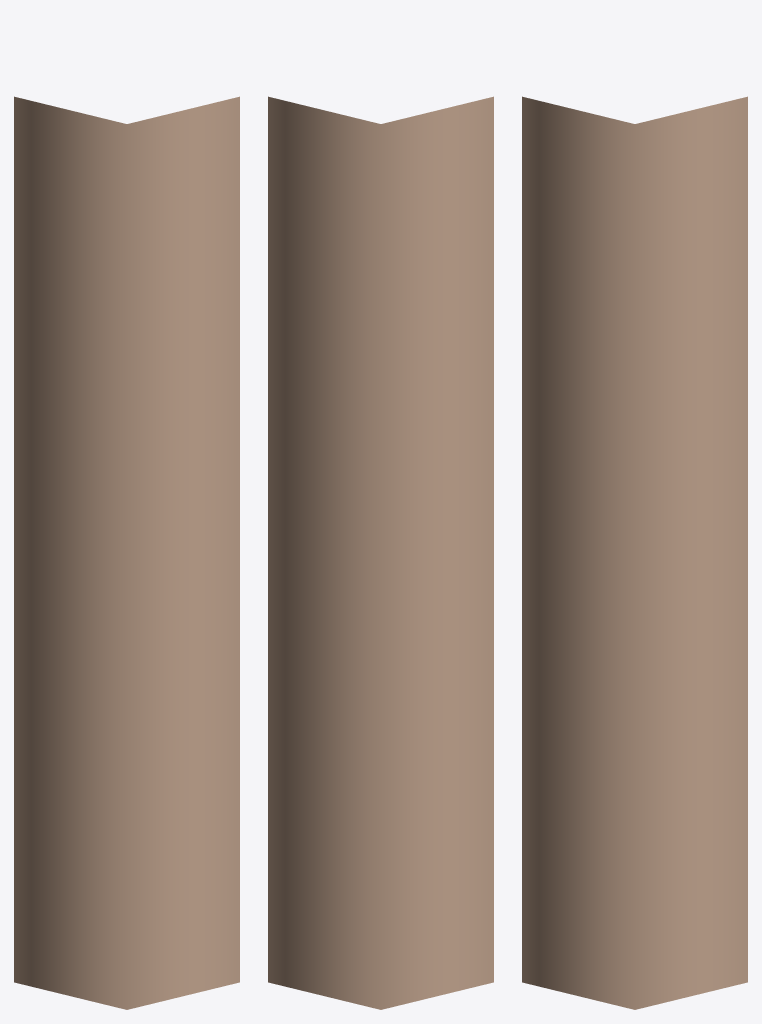
File: rig.static.glb
The picture shows the model from 3 angles, left to right: view 1: azimuth 30°, elevation 25°; view 2: azimuth 150°, elevation 25°; view 3: azimuth 270°, elevation 25°; orthographic projection.
Visible parts, largest first — view 1: body; view 2: body; view 3: body.
Part boxes in pixels (x1,y1,x2,y2): body: (14,96,239,1009); body: (268,96,493,1009); body: (522,96,747,1009).
Bounding box in the file's own units: 0.16 × 0.6 × 0.1386.
